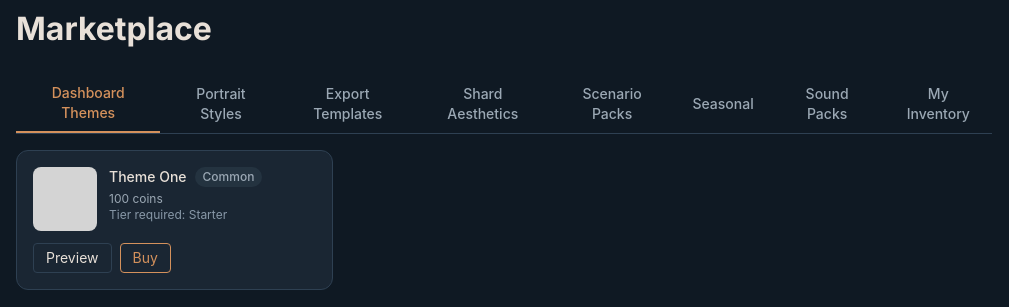
MarketplacePage — loads for the active tab (R361.4) › from one category’s items to another tab, no render for it shows the earlier category’s items (R371.1)
The width and height of the screenshot is (1009, 307).
Expected: the heading "Theme One" is shown, [109,167,187,187]
Click the tab "Portrait Styles" at (221, 104), box [164,75,278,133]
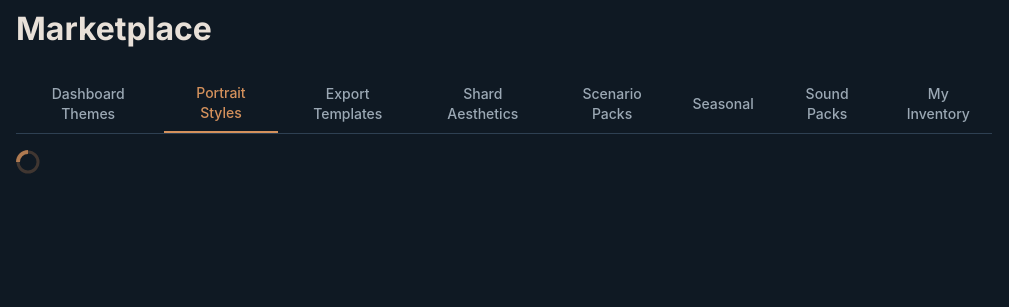
Expected: the text "Theme One" is gone
